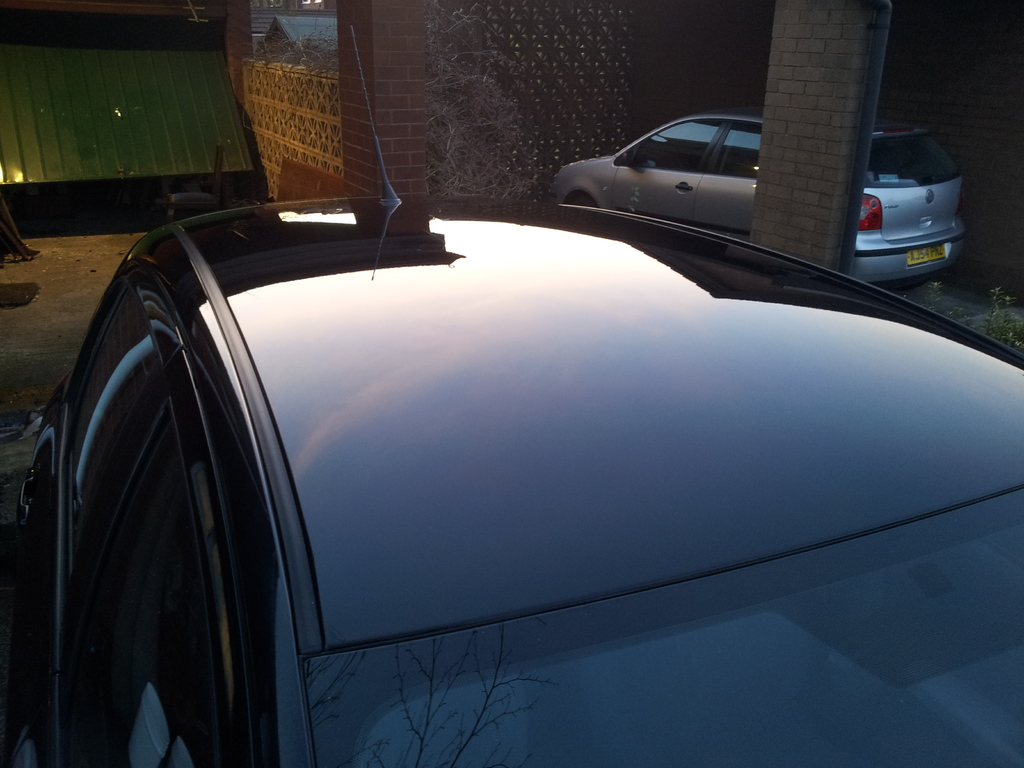Car: (14, 21, 1023, 767), (550, 108, 959, 289)
